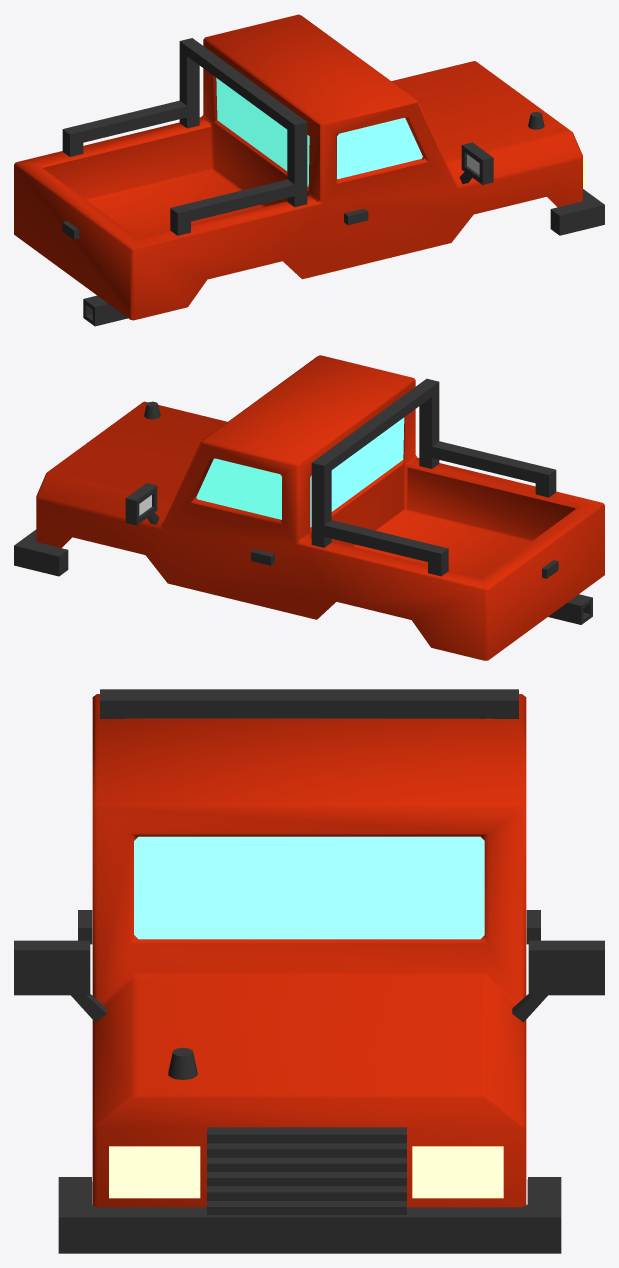
File: chassis.glb
3 views of the same model, one above another, from view 1: azimuth 30°, elevation 25°; view 2: azimuth 150°, elevation 25°; view 3: azimuth 270°, elevation 25° (orthographic). The views are drawn at different scales.
Visible parts, largest first — view 1: shadeRed_002, shadeBlack_009.001, shadeGlass.001, Cube.151, shadeBlack_023, shadeBlack_009; view 2: shadeRed_002, shadeBlack_009.001, shadeGlass.001, Cube.151, shadeBlack_011, shadeBlack_009; view 3: shadeRed_002, shadeGlass.001, Cube.151, shadeBlack_008, shadeBlack_009.001, pureYellow_001, pureYellow_002, shadeBlack_011, shadeBlack_023, shadeBlack_016.
Boxes of the visible parts, x1,y1,x2,y2 form: shadeRed_002: [14, 14, 582, 320]; shadeBlack_009.001: [62, 38, 307, 235]; shadeGlass.001: [216, 78, 422, 186]; Cube.151: [550, 189, 604, 235]; shadeBlack_023: [459, 142, 493, 184]; shadeBlack_009: [83, 295, 127, 326]; shadeRed_002: [36, 355, 604, 660]; shadeBlack_009.001: [311, 378, 556, 576]; shadeGlass.001: [196, 417, 404, 527]; Cube.151: [14, 529, 68, 576]; shadeBlack_011: [125, 483, 159, 525]; shadeBlack_009: [548, 594, 592, 624]; shadeRed_002: [92, 694, 526, 1207]; shadeGlass.001: [134, 836, 484, 939]; Cube.151: [58, 1177, 561, 1253]; shadeBlack_008: [207, 1127, 406, 1214]; shadeBlack_009.001: [100, 689, 518, 718]; pureYellow_001: [412, 1146, 503, 1198]; pureYellow_002: [109, 1146, 200, 1198]; shadeBlack_011: [512, 940, 604, 1022]; shadeBlack_023: [14, 940, 106, 1022]; shadeBlack_016: [168, 1047, 197, 1079].
Bounding box in the file's own units: 1.99 × 0.7016 × 1.18.
